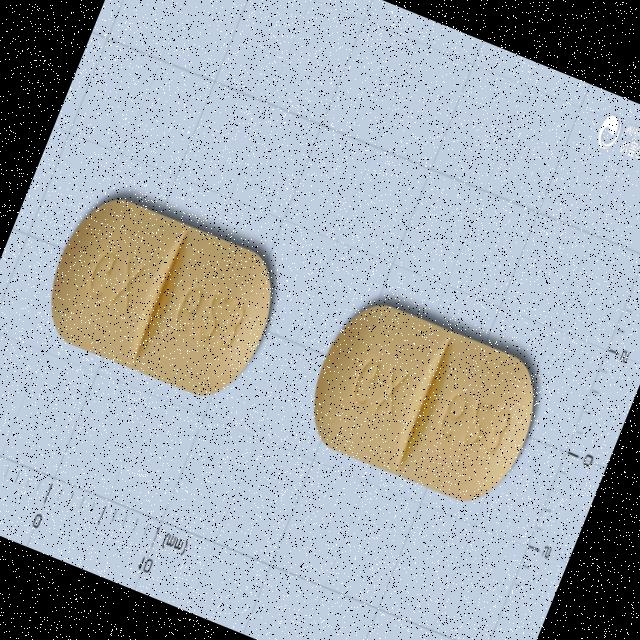Ziagen Tab: (31, 183, 292, 411), (294, 289, 554, 515)
